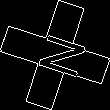N_W: (25, 28, 85, 82)
